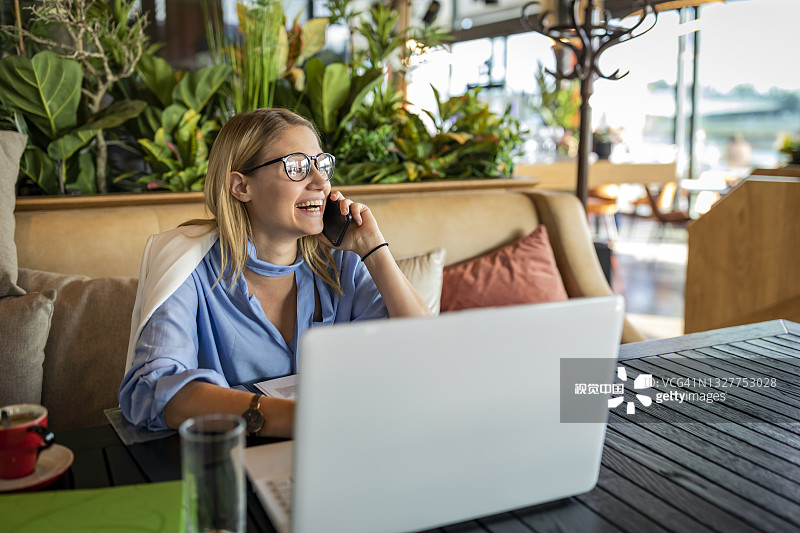calling: (312, 180, 423, 285)
